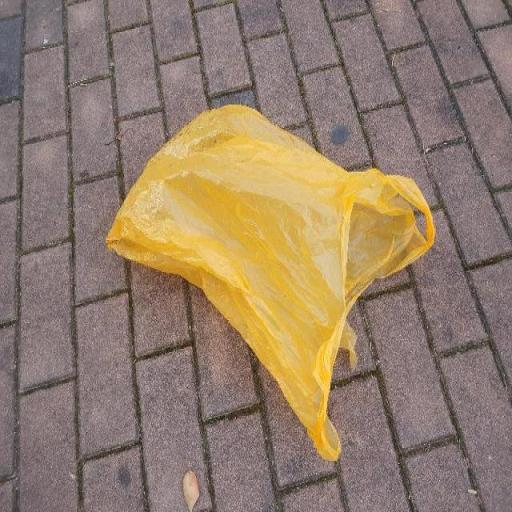plastic-bag: (103, 101, 439, 467)
